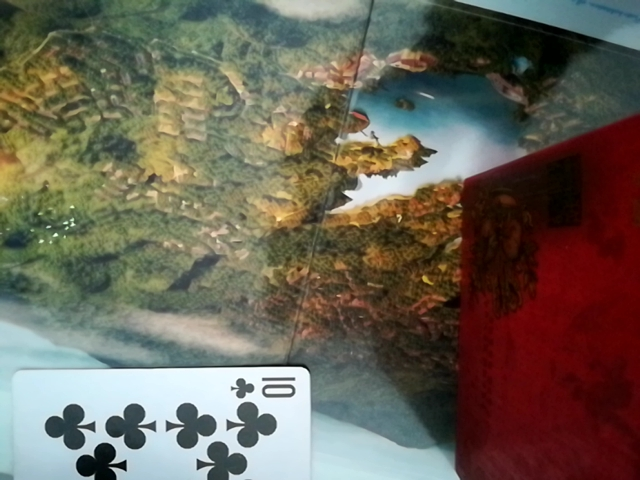mh 10: (0, 367, 317, 479)
